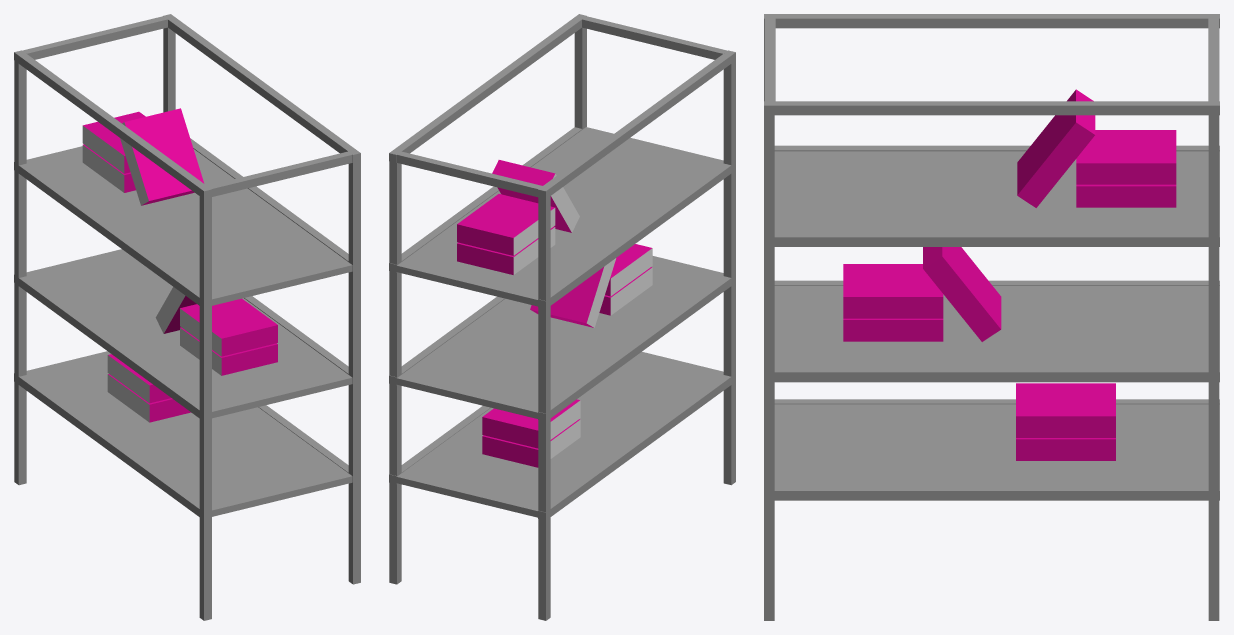
The model's file is shelf.fbx.
3 renders of one model, left to right at view 1: azimuth 30°, elevation 25°; view 2: azimuth 150°, elevation 25°; view 3: azimuth 270°, elevation 25°, orthographic. The views are drawn at different scales.
Visible parts, largest first — view 1: Cube.023, Cube.021, Cube.022, Cube.026, Cube.027, Cube.028, Cube.020, Cube.033, Cube.024, Cube.013, Cube.014, Cube.015 (+13 smaller); view 2: Cube.022, Cube.023, Cube.021, Cube.028, Cube.026, Cube.029, Cube.016, Cube.024, Cube.015, Cube.013, Cube.014, Cube.025 (+13 smaller); view 3: Cube.021, Cube.022, Cube.023, Cube.025, Cube.018, Cube.017, Cube.024, Cube.019, Cube.029, Cube.027, Cube.036, Cube.016 (+11 smaller).
Boxes of the visible parts, bbox=[...] form: Cube.023: bbox=[26, 146, 352, 305]; Cube.021: bbox=[26, 351, 352, 516]; Cube.022: bbox=[26, 249, 352, 418]; Cube.026: bbox=[199, 186, 211, 620]; Cube.027: bbox=[348, 150, 360, 584]; Cube.028: bbox=[14, 50, 26, 485]; Cube.020: bbox=[120, 108, 204, 205]; Cube.033: bbox=[180, 298, 277, 356]; Cube.024: bbox=[14, 50, 206, 198]; Cube.013: bbox=[14, 373, 203, 519]; Cube.014: bbox=[14, 275, 203, 420]; Cube.015: bbox=[14, 162, 203, 308]; Cube.022: bbox=[394, 256, 723, 418]; Cube.023: bbox=[396, 127, 723, 306]; Cube.021: bbox=[393, 352, 723, 517]; Cube.028: bbox=[538, 186, 550, 620]; Cube.026: bbox=[723, 50, 735, 485]; Cube.029: bbox=[389, 150, 401, 584]; Cube.016: bbox=[457, 194, 555, 255]; Cube.024: bbox=[538, 54, 735, 199]; Cube.015: bbox=[538, 163, 731, 309]; Cube.013: bbox=[538, 375, 731, 520]; Cube.014: bbox=[538, 276, 731, 421]; Cube.025: bbox=[389, 17, 581, 162]; Cube.021: bbox=[774, 404, 1219, 486]; Cube.022: bbox=[774, 286, 1219, 367]; Cube.023: bbox=[774, 151, 1219, 232]; Cube.025: bbox=[765, 101, 1219, 115]; Cube.018: bbox=[765, 368, 1219, 382]; Cube.017: bbox=[765, 486, 1219, 500]; Cube.024: bbox=[774, 14, 1219, 28]; Cube.019: bbox=[765, 233, 1219, 246]; Cube.029: bbox=[1208, 101, 1219, 620]; Cube.027: bbox=[764, 101, 774, 620]; Cube.036: bbox=[1016, 383, 1115, 437]; Cube.016: bbox=[1076, 130, 1176, 184].
Size of the model in its own units: 189 by 496 by 397.
